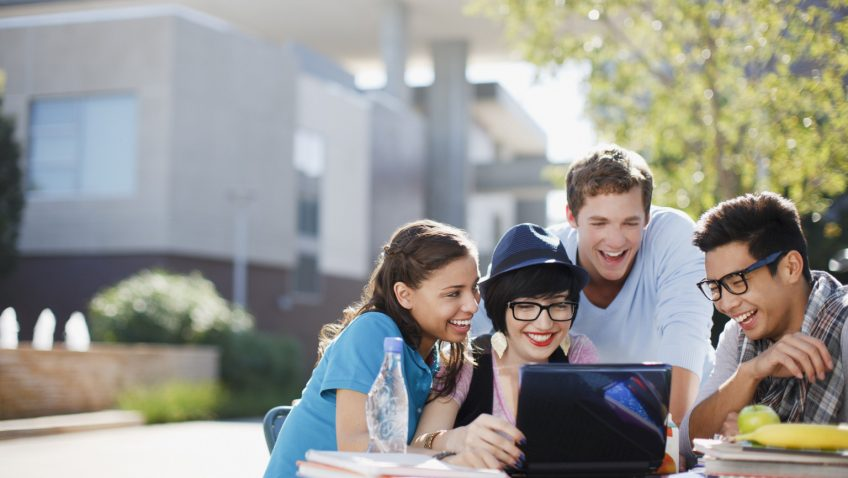Person: (319, 235, 482, 478), (561, 172, 694, 464), (698, 222, 848, 460)
